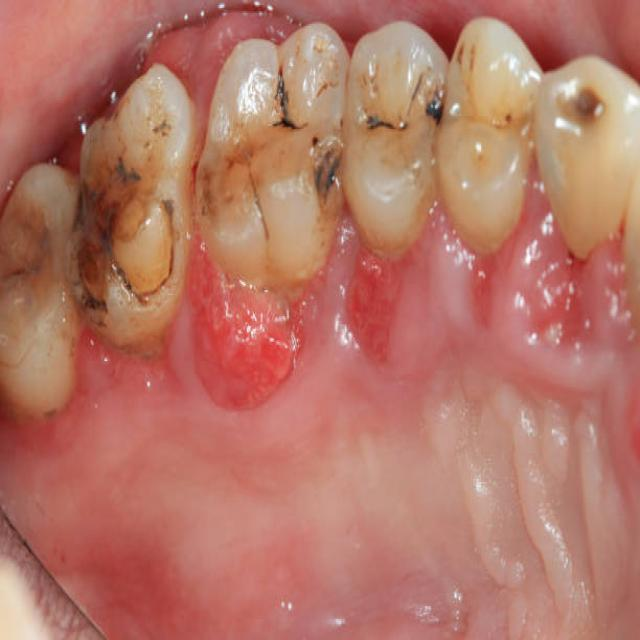Gingivitis: (189, 239, 305, 411), (343, 243, 405, 363), (543, 255, 594, 353), (71, 333, 127, 394), (468, 257, 502, 330)
